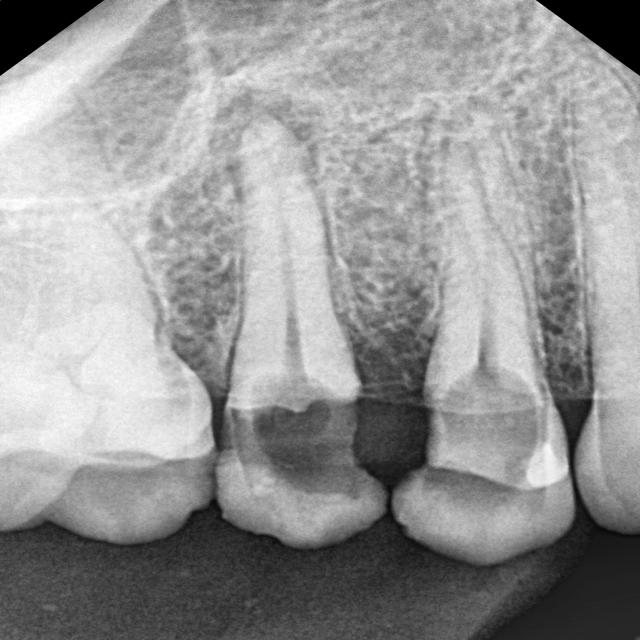Abcess: (197, 68, 343, 187)
Badly Decayed: (381, 243, 588, 583), (173, 268, 388, 564)
